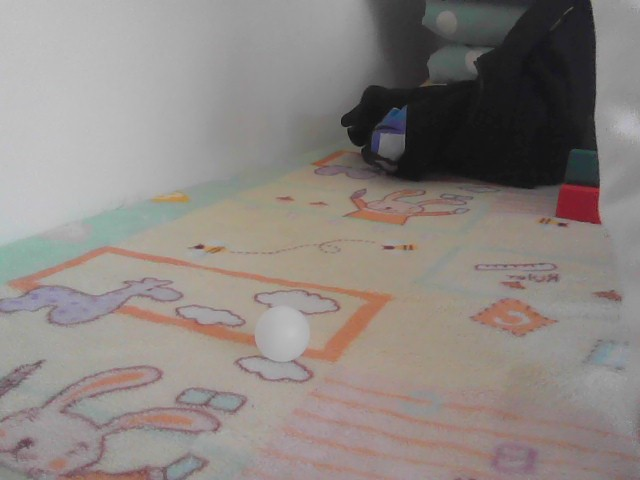ball: (255, 308, 311, 363)
